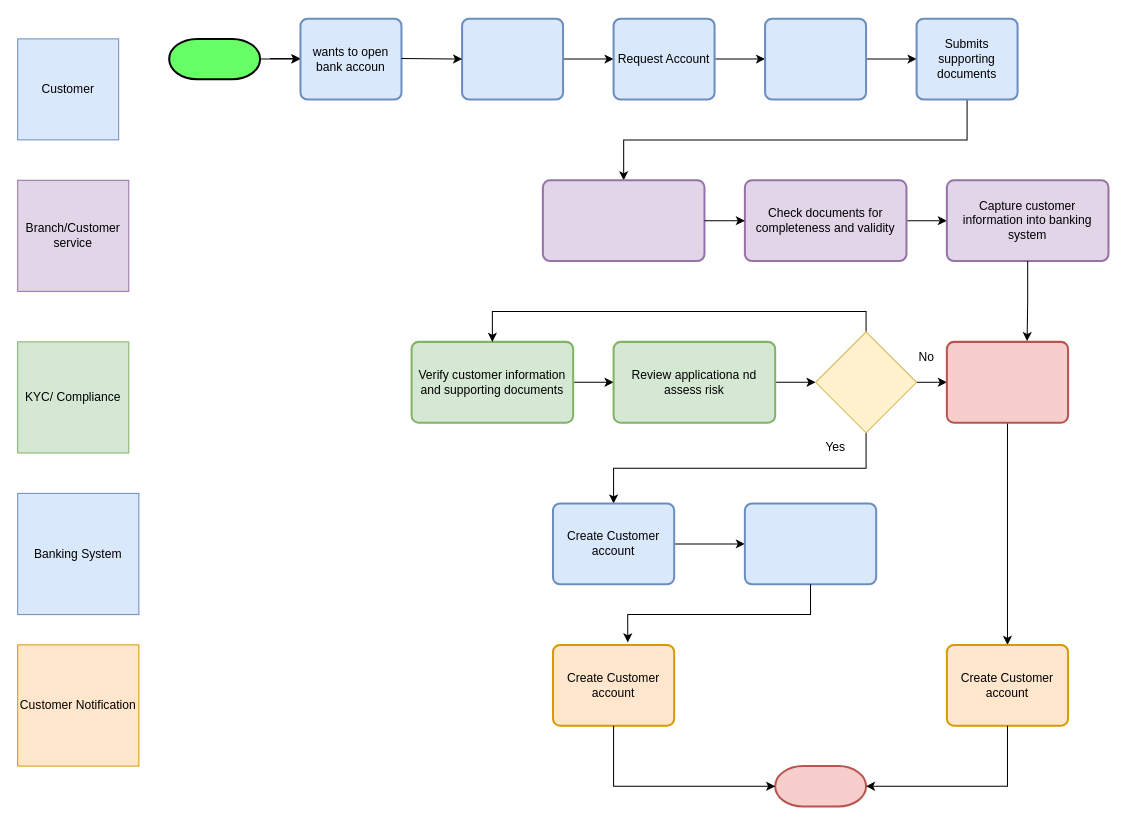
Image size: 1127x824. Some labels were removed from this diagram. The shapes that lost their labels are listed below. From the top down, each one's centre as x and y in pixels, then its label:
At (x=214, y=58): "START".
At (x=512, y=58): "Visit Branch".
At (x=815, y=58): "Completes application form".
At (x=623, y=220): "Provide application form and assist customer".
At (x=866, y=382): "Application approved?".
At (x=1007, y=381): "Application Rejected".
At (x=810, y=543): "Update application status".
At (x=820, y=786): "END".
